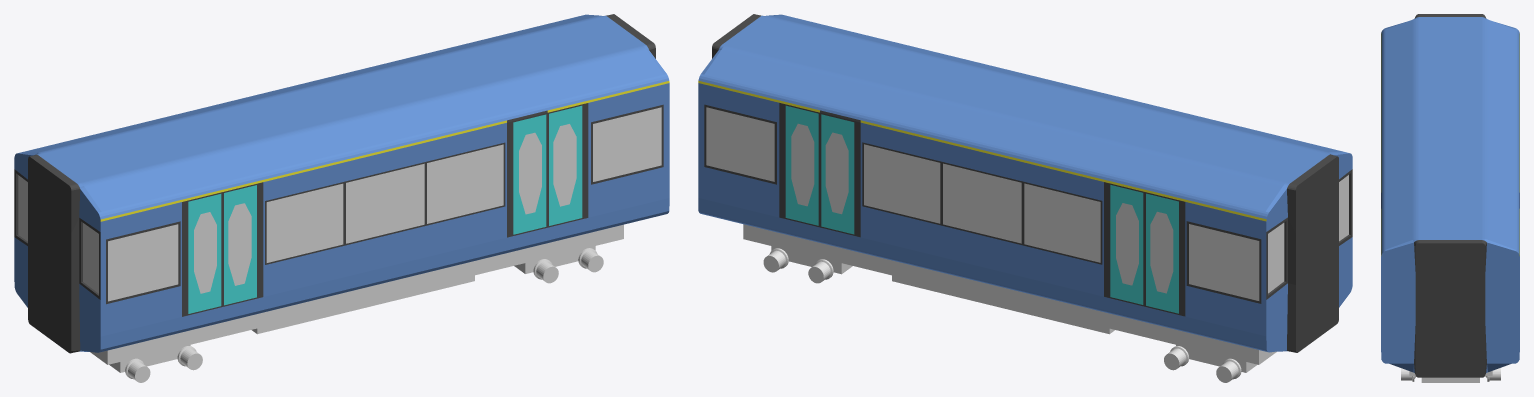
Rendered from Train Car.fbx.
3 renders of one model, left to right at view 1: azimuth 30°, elevation 25°; view 2: azimuth 150°, elevation 25°; view 3: azimuth 270°, elevation 25°, orthographic. The views are drawn at different scales.
Parts seen in each view (by area): view 1: Train Car, Underside C, Underside A, Underside B; view 2: Train Car, Underside C, Underside A, Underside B; view 3: Train Car, Underside B, Back Wheel B.
Part boxes in pixels (<box>): Train Car: <box>14,14,669,353</box>; Underside C: <box>252,261,474,334</box>; Underside A: <box>90,314,257,372</box>; Underside B: <box>474,224,623,275</box>; Train Car: <box>698,14,1352,352</box>; Underside C: <box>892,261,1114,334</box>; Underside A: <box>1109,314,1276,372</box>; Underside B: <box>743,224,892,275</box>; Train Car: <box>1381,14,1519,377</box>; Underside B: <box>1409,371,1492,382</box>; Back Wheel B: <box>1401,368,1500,381</box>.
Size of the model in its own units: 781 by 263 by 200.
